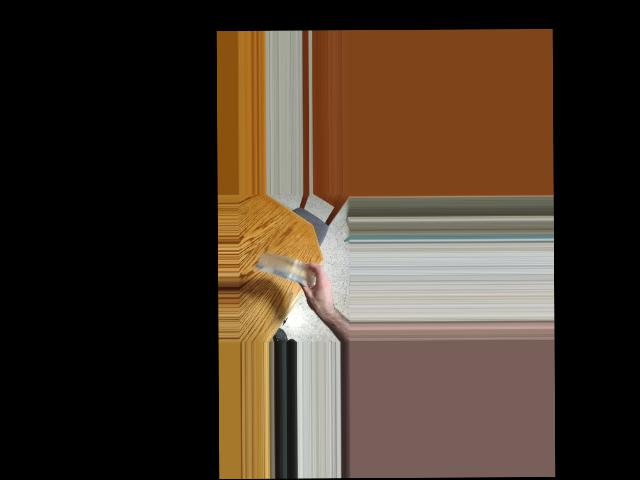cheese: (254, 255, 322, 280)
